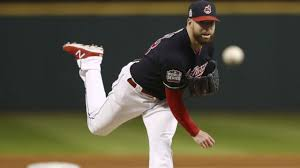baseball: (221, 44, 246, 68)
baseball player: (64, 1, 218, 168)
